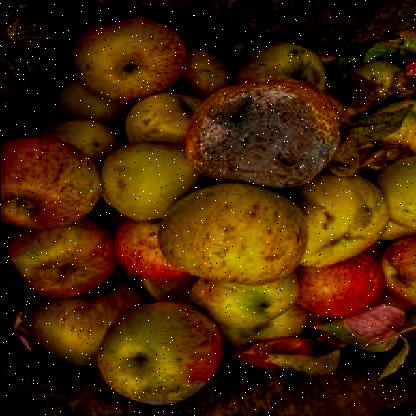damaged_apple: (186, 82, 336, 184), (167, 183, 311, 282), (92, 294, 220, 404), (7, 126, 108, 230), (281, 173, 386, 269), (17, 222, 122, 300)
